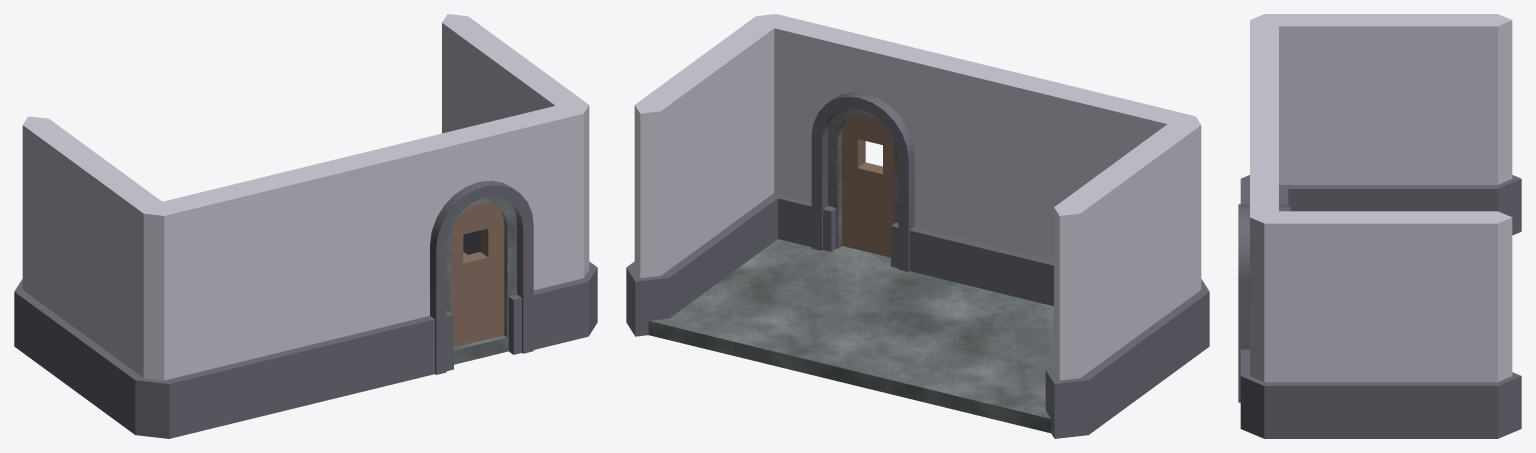
Rendered from hallway_end_05.fbx.
3 renders of one model, left to right at view 1: azimuth 30°, elevation 25°; view 2: azimuth 150°, elevation 25°; view 3: azimuth 270°, elevation 25°, orthographic. The views are drawn at different scales.
Parts seen in each view (by area): view 1: corner_01_92, door_01_91, wall_01_93, floor_04_90; view 2: corner_01_92, floor_04_90, door_01_91, wall_01_93; view 3: wall_01_93, corner_01_92, door_01_91.
Part boxes in pixels (x1,y1,x2,y2): corner_01_92: (14, 116, 382, 438); door_01_91: (354, 106, 588, 387); wall_01_93: (442, 14, 597, 335); floor_04_90: (454, 252, 508, 364); corner_01_92: (963, 65, 1209, 438); floor_04_90: (648, 239, 1053, 433); door_01_91: (756, 14, 989, 284); wall_01_93: (626, 14, 780, 336); wall_01_93: (1240, 211, 1521, 438); corner_01_92: (1240, 14, 1521, 235); door_01_91: (1238, 114, 1290, 438).
Bounding box in the file's own units: 22.05 × 10 × 12.15.
